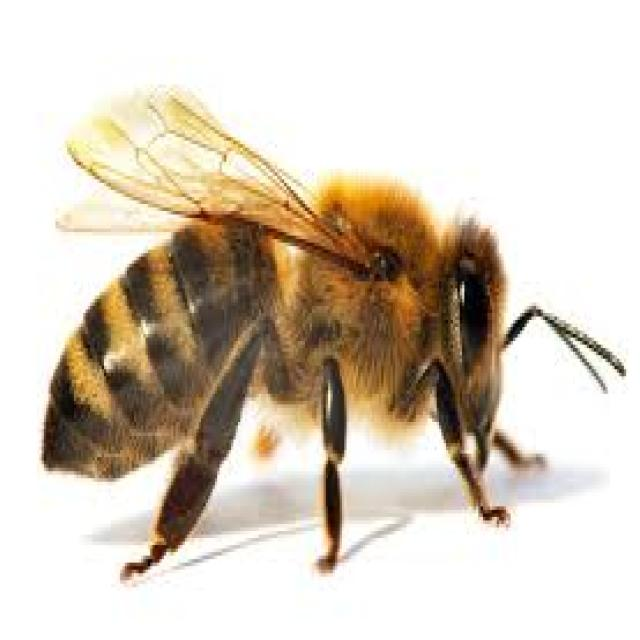Bees: (42, 80, 626, 584)
